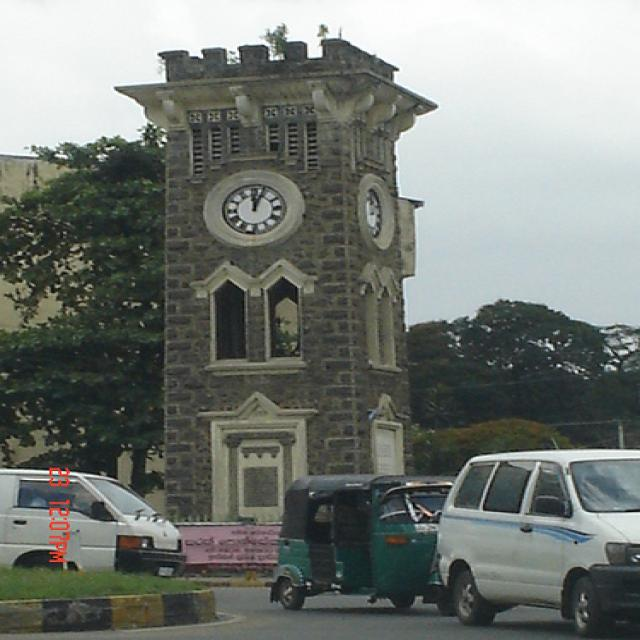Vehicle: (427, 448, 640, 640), (436, 444, 640, 637), (268, 470, 463, 615), (0, 467, 191, 575)
